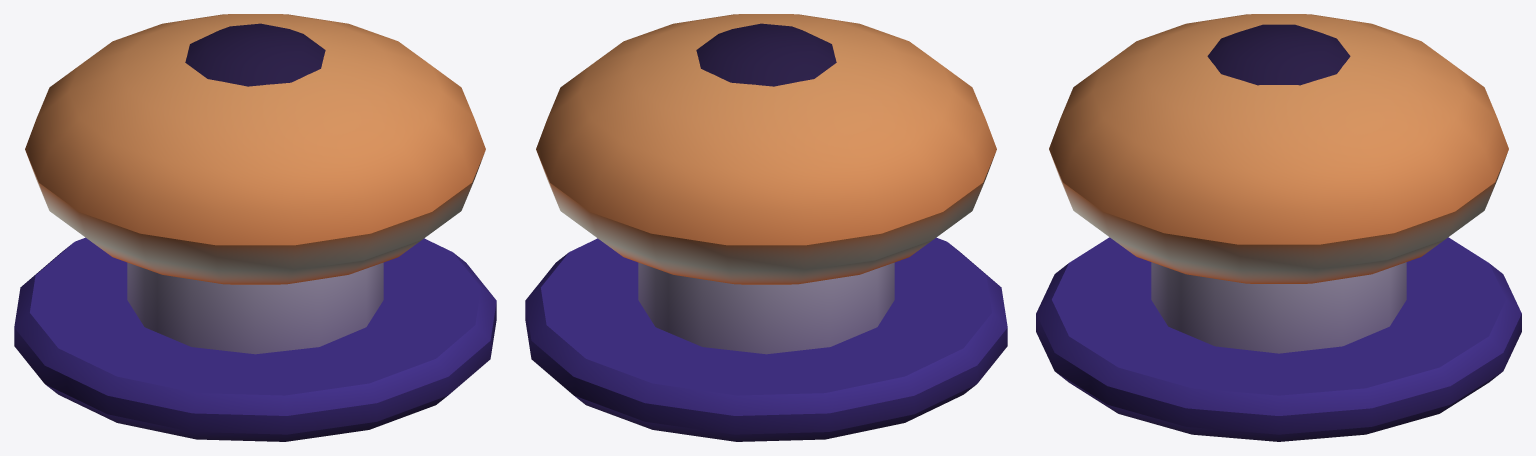
Rendered from obstacle_bumper.glb.
3 views of the same model, side by side, from view 1: azimuth 30°, elevation 25°; view 2: azimuth 150°, elevation 25°; view 3: azimuth 270°, elevation 25° (orthographic).
Visible parts, largest first — view 1: BumperCap, BumperBase; view 2: BumperCap, BumperBase; view 3: BumperCap, BumperBase.
Boxes of the visible parts, bbox=[...] form: BumperCap: bbox=[25, 14, 485, 284]; BumperBase: bbox=[14, 237, 496, 441]; BumperCap: bbox=[536, 14, 996, 284]; BumperBase: bbox=[525, 237, 1007, 441]; BumperCap: bbox=[1049, 14, 1508, 283]; BumperBase: bbox=[1036, 237, 1521, 441].
Bounding box in the file's own units: 1.9 × 1.32 × 1.9.
